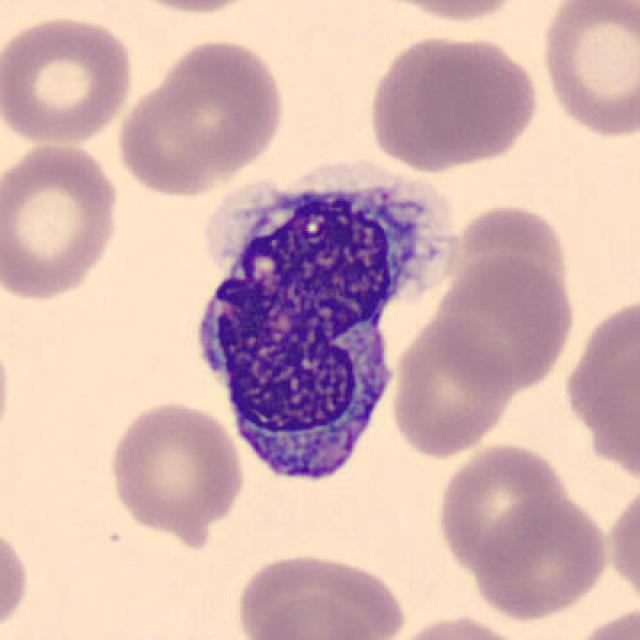monocyte: (201, 161, 465, 496)
rbc: (121, 40, 268, 173), (378, 45, 530, 166), (0, 149, 111, 298), (114, 402, 235, 538), (436, 445, 569, 565), (401, 311, 507, 446), (448, 266, 567, 386), (0, 28, 123, 138), (238, 553, 384, 640), (488, 500, 596, 606), (553, 0, 640, 127), (258, 579, 397, 640), (458, 211, 563, 276), (573, 306, 639, 408), (594, 351, 640, 470), (605, 487, 640, 587), (0, 534, 31, 632), (418, 612, 503, 640), (416, 0, 506, 24), (590, 602, 640, 640)
